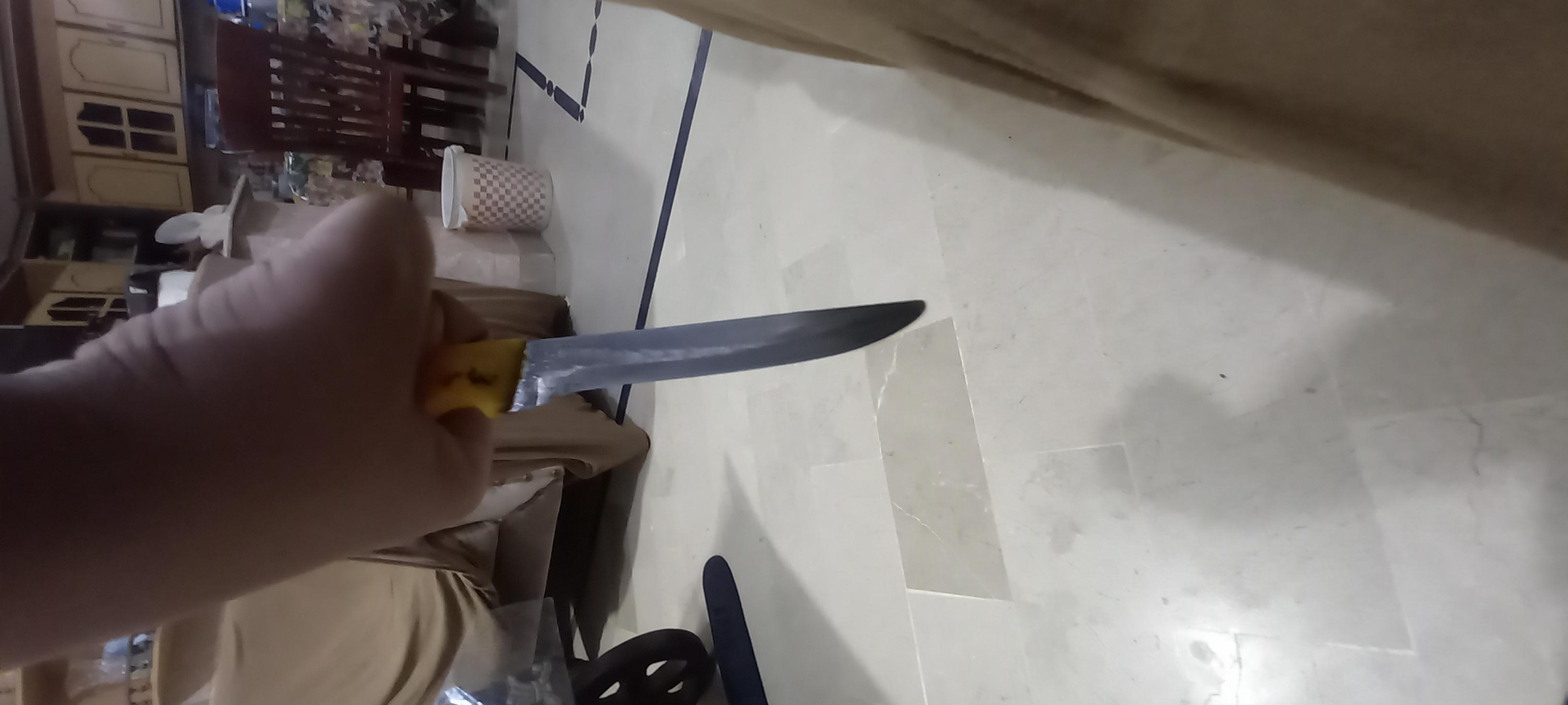knives: (585, 167, 978, 421)
